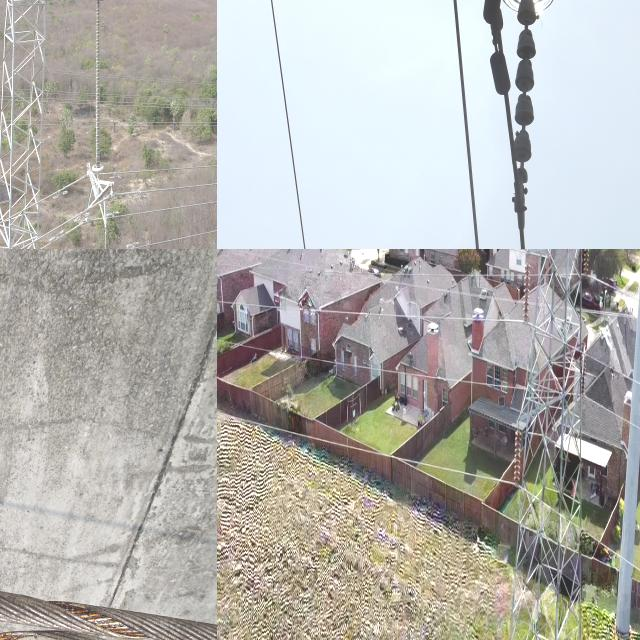杆塔: (0, 0, 131, 249), (505, 249, 588, 640)
正常电缆: (217, 402, 505, 503), (217, 324, 511, 402), (217, 279, 514, 342), (594, 529, 640, 586)
正常绝缘子: (499, 0, 556, 209), (90, 0, 114, 199), (520, 258, 533, 328), (512, 420, 524, 492), (578, 347, 590, 402), (581, 249, 594, 292)
电缆破损: (0, 390, 143, 561)
绝缘子破损: (516, 4, 540, 43), (512, 106, 535, 146), (514, 75, 535, 112), (514, 50, 537, 80)
